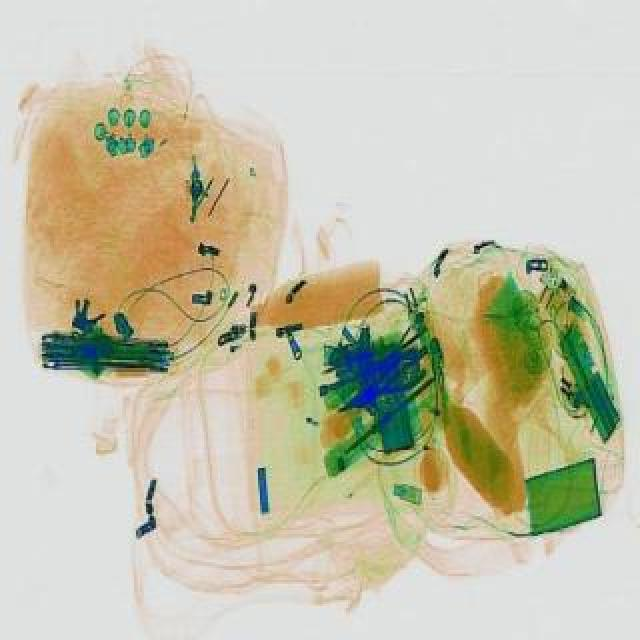wrench: (326, 342, 434, 422)
